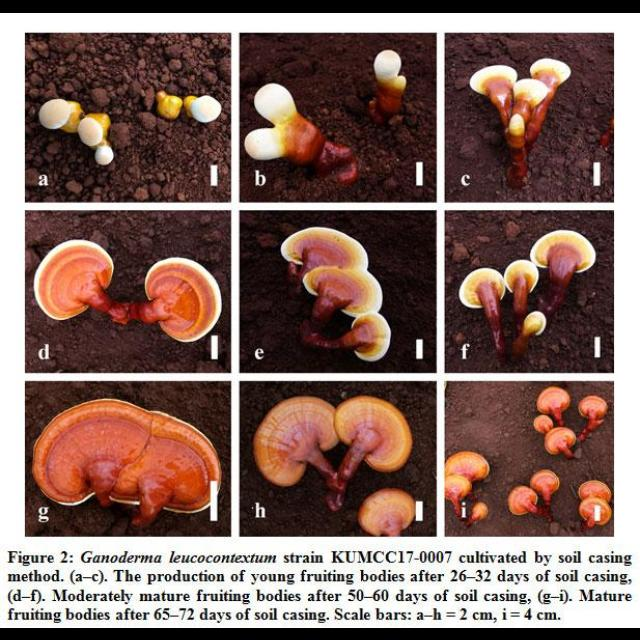ganoderma: (33, 397, 224, 515), (282, 227, 381, 318), (253, 395, 344, 488), (145, 256, 223, 341), (32, 240, 113, 319), (334, 396, 413, 474), (357, 488, 417, 537), (533, 231, 598, 275), (342, 312, 392, 360), (460, 266, 506, 308), (471, 66, 518, 105), (530, 57, 574, 92), (444, 451, 491, 480), (505, 259, 542, 295), (537, 385, 574, 415), (508, 485, 540, 517), (579, 499, 614, 528), (545, 427, 578, 456), (514, 80, 550, 106), (530, 468, 562, 497), (446, 475, 475, 504), (579, 480, 614, 504), (578, 395, 610, 420), (508, 112, 527, 141), (535, 416, 556, 433), (474, 502, 491, 520)
primordium: (256, 82, 297, 124), (373, 48, 408, 94), (245, 125, 284, 162), (39, 98, 83, 130), (79, 115, 111, 146), (189, 95, 222, 123), (518, 310, 547, 338), (95, 145, 114, 166)
